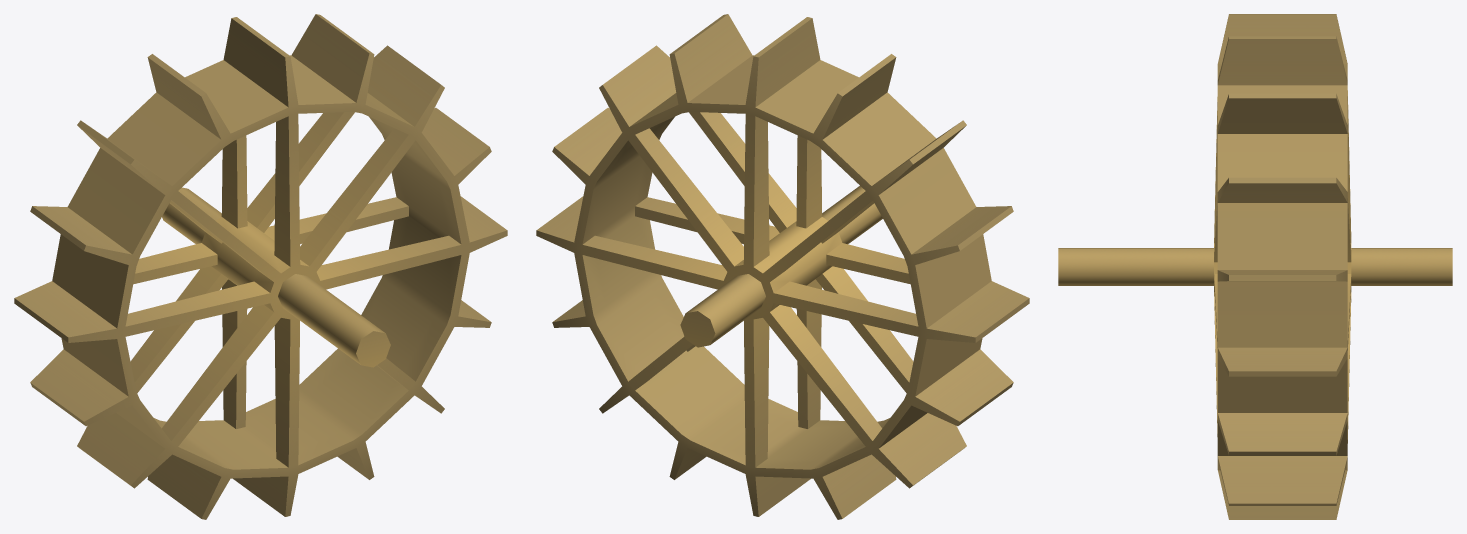
Rendered from waterwheel_wheel.glb.
3 renders of one model, left to right at view 1: azimuth 30°, elevation 25°; view 2: azimuth 150°, elevation 25°; view 3: azimuth 270°, elevation 25°, orthographic.
Parts seen in each view (by area): view 1: Waterwheel_wheel; view 2: Waterwheel_wheel; view 3: Waterwheel_wheel.
Boxes of the visible parts, x1,y1,x2,y2 form: Waterwheel_wheel: (14,14,507,519); Waterwheel_wheel: (536,14,1029,519); Waterwheel_wheel: (1058,14,1452,519).
Bounding box in the file's own units: 5.13 × 5.13 × 4.
Materials: 1 (1 with a texture image).
